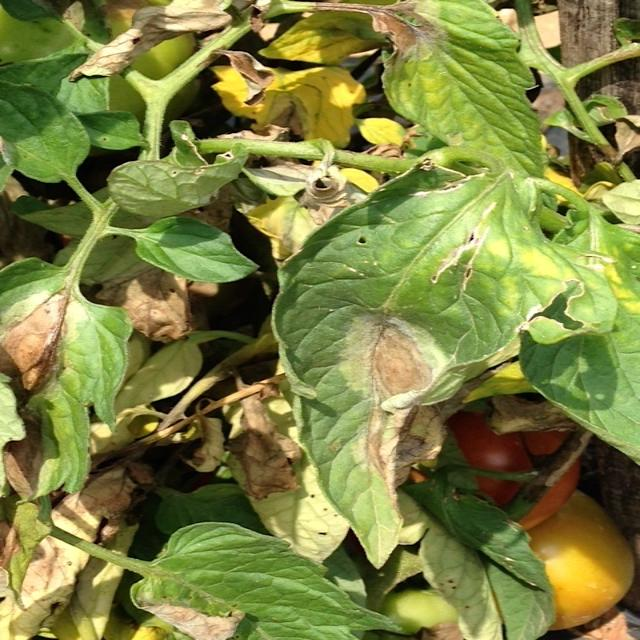Late_blight: (1, 468, 131, 640), (64, 1, 272, 108), (340, 306, 449, 507), (215, 61, 420, 162), (254, 161, 370, 267), (229, 375, 307, 500), (100, 264, 222, 339), (3, 284, 74, 398), (365, 2, 446, 67), (140, 594, 245, 637)
